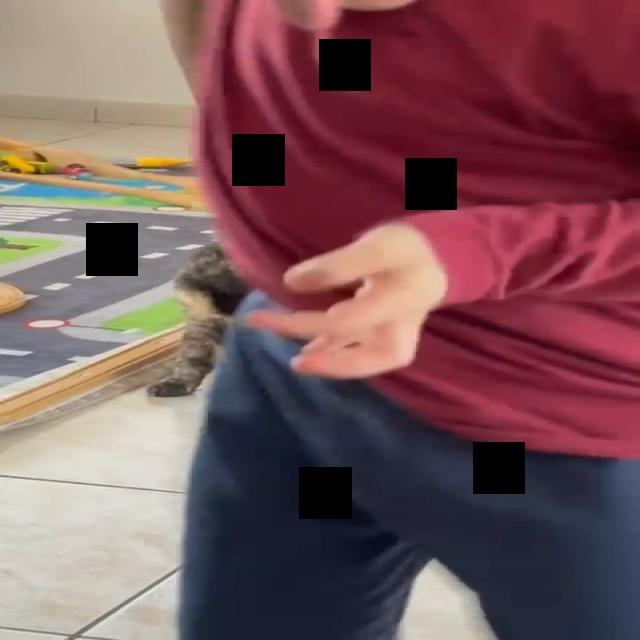authorized: (146, 242, 250, 398)
